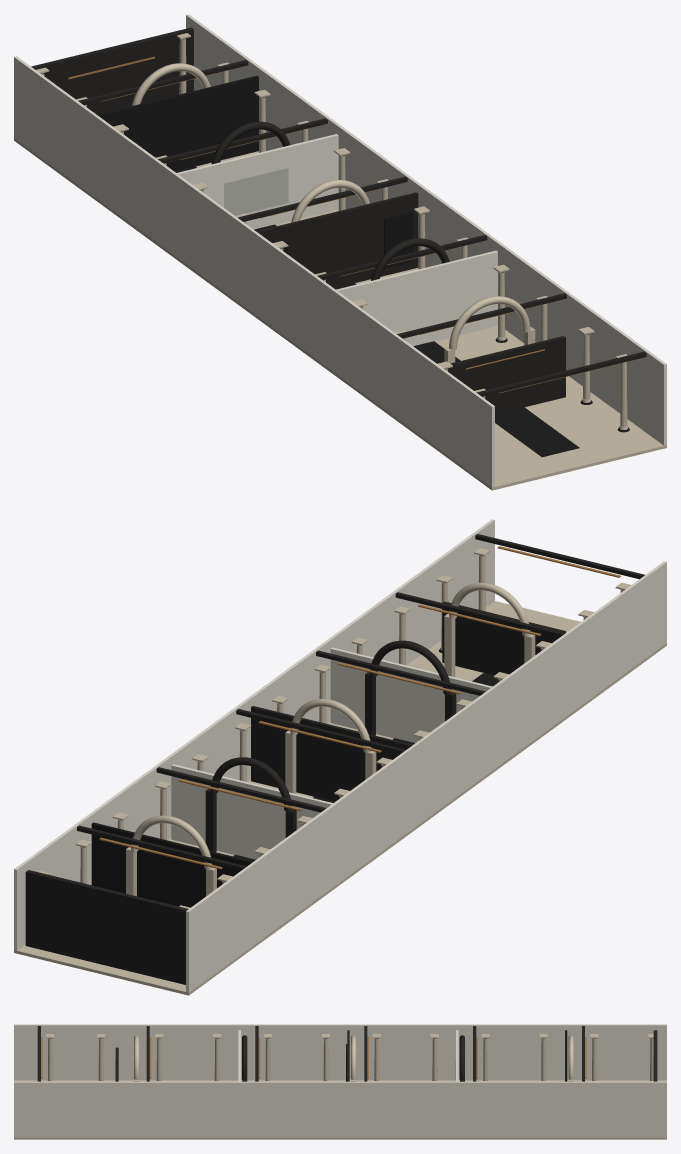
Rendered from museum.glb.
3 renders of one model, top to bottom at view 1: azimuth 30°, elevation 25°; view 2: azimuth 150°, elevation 25°; view 3: azimuth 270°, elevation 25°, orthographic. The views are drawn at different scales.
Visible parts, largest first — view 1: ARCH_LeftWall, ARCH_RightWall, ARCH_Floor, ARCH_Lab_BackWall, ARCH_Room04_DisplayWall, ARCH_Room01_DisplayWall, ARCH_Room02_DisplayWall, ARCH_ContactMonument, ARCH_Lobby_Monolith, ARCH_CentralInlay, ARCH_Lab_Glass, ARCH_CeilingBeam_11 (+11 smaller); view 2: ARCH_LeftWall, ARCH_RightWall, ARCH_ContactMonument, ARCH_Lab_BackWall, ARCH_Room02_DisplayWall, ARCH_Room01_DisplayWall, ARCH_Room04_DisplayWall, ARCH_Floor, ARCH_Lobby_Monolith, ARCH_CeilingBeam_-4, ARCH_CeilingBeam_-49, ARCH_CeilingBeam_11 (+11 smaller); view 3: ARCH_RightWall, ARCH_LeftWall, ARCH_Floor, ARCH_Column_L_-15, ARCH_Column_L_-23, ARCH_Column_L_8, ARCH_Column_L_0, ARCH_Column_L_-8, ARCH_Column_L_-38, ARCH_Portal_Entrance_Arch, ARCH_Portal_Lab_Arch, ARCH_Portal_Experimental_Arch (+13 smaller).
Boxes of the visible parts, x1,y1,x2,y2 form: ARCH_LeftWall: [14, 56, 494, 487]; ARCH_RightWall: [186, 14, 666, 445]; ARCH_Floor: [14, 138, 666, 490]; ARCH_Lab_BackWall: [177, 134, 338, 229]; ARCH_Room04_DisplayWall: [97, 75, 258, 171]; ARCH_Room01_DisplayWall: [336, 250, 497, 346]; ARCH_Room02_DisplayWall: [256, 192, 418, 287]; ARCH_ContactMonument: [31, 27, 193, 114]; ARCH_Lobby_Monolith: [448, 336, 565, 413]; ARCH_CentralInlay: [174, 166, 579, 457]; ARCH_Lab_Glass: [224, 168, 288, 215]; ARCH_CeilingBeam_11: [476, 351, 646, 396]; ARCH_LeftWall: [186, 561, 666, 992]; ARCH_RightWall: [14, 519, 494, 950]; ARCH_ContactMonument: [25, 870, 188, 984]; ARCH_Lab_BackWall: [171, 764, 333, 859]; ARCH_Room02_DisplayWall: [251, 706, 412, 801]; ARCH_Room01_DisplayWall: [330, 647, 492, 742]; ARCH_Room04_DisplayWall: [91, 822, 253, 907]; ARCH_Floor: [14, 601, 666, 995]; ARCH_Lobby_Monolith: [442, 601, 565, 674]; ARCH_CeilingBeam_-4: [395, 592, 565, 637]; ARCH_CeilingBeam_-49: [156, 767, 326, 812]; ARCH_CeilingBeam_11: [475, 534, 644, 579]; ARCH_RightWall: [14, 1081, 666, 1137]; ARCH_LeftWall: [14, 1024, 666, 1080]; ARCH_Floor: [14, 1080, 666, 1139]; ARCH_Column_L_-15: [264, 1034, 271, 1080]; ARCH_Column_L_-23: [322, 1034, 329, 1080]; ARCH_Column_L_8: [97, 1034, 104, 1080]; ARCH_Column_L_0: [155, 1034, 163, 1080]; ARCH_Column_L_-8: [213, 1034, 221, 1080]; ARCH_Column_L_-38: [430, 1034, 438, 1080]; ARCH_Portal_Entrance_Arch: [134, 1035, 139, 1079]; ARCH_Portal_Lab_Arch: [351, 1035, 356, 1079]; ARCH_Portal_Experimental_Arch: [459, 1035, 464, 1079].
Bounding box in the file's own units: 19.02 × 11.03 × 90.
